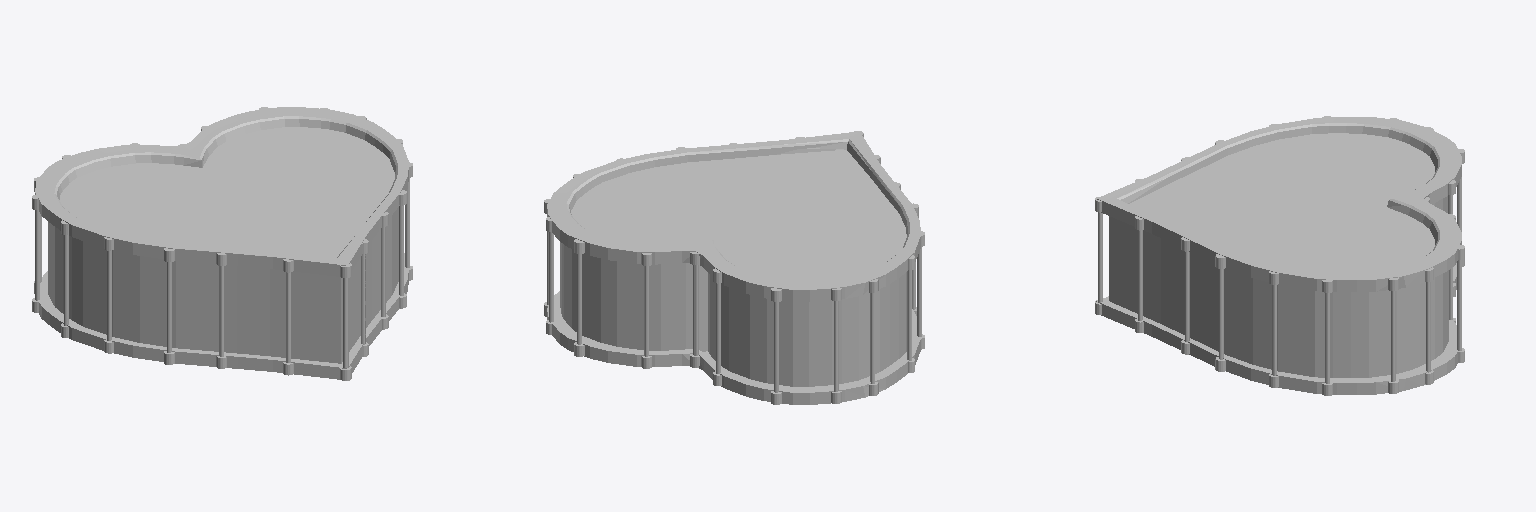
File: heartdrum.obj
3 renders of one model, left to right at view 1: azimuth 30°, elevation 25°; view 2: azimuth 150°, elevation 25°; view 3: azimuth 270°, elevation 25°, orthographic.
Visible parts, largest first — view 1: default; view 2: default; view 3: default.
Boxes of the visible parts, x1=… form: default: x1=32, y1=107, x2=412, y2=380; default: x1=544, y1=131, x2=924, y2=404; default: x1=1095, y1=116, x2=1464, y2=395.
Bounding box in the file's own units: 58.44 × 18.83 × 54.99.